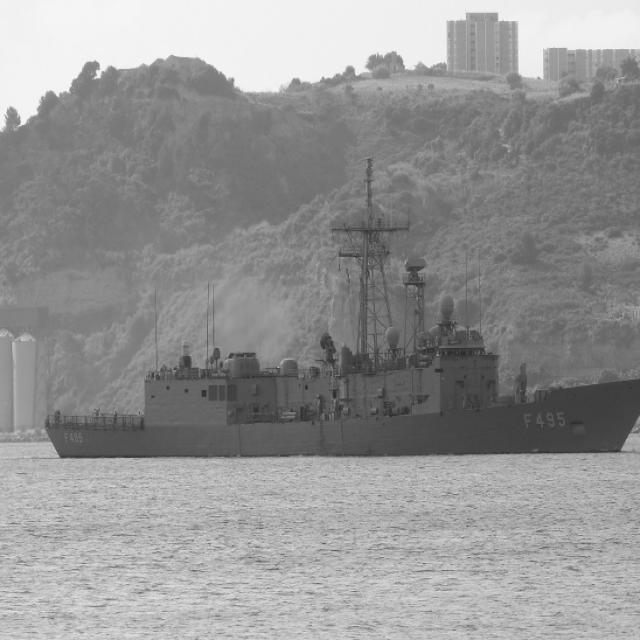Fragata: (44, 160, 640, 462)
